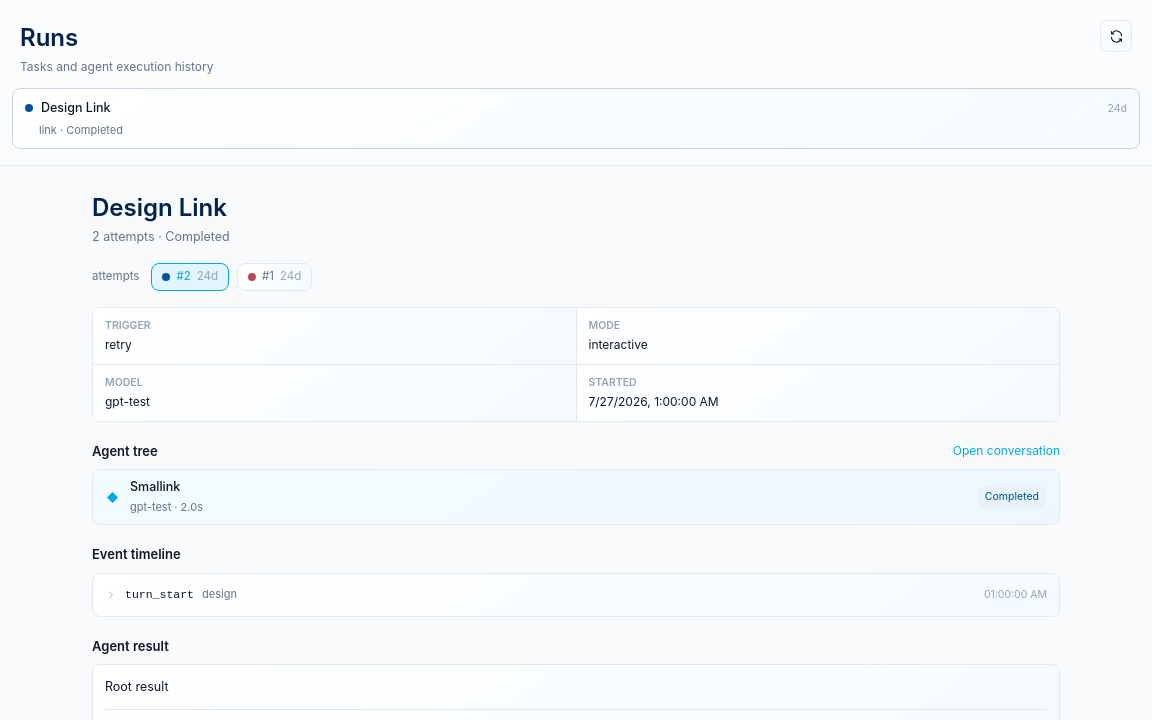
Test: RunsView › lets the user inspect an earlier attempt
The width and height of the screenshot is (1152, 720).
Click the button "#1 24d" at (275, 277), box top-left (237, 263), bottom-right (312, 291)
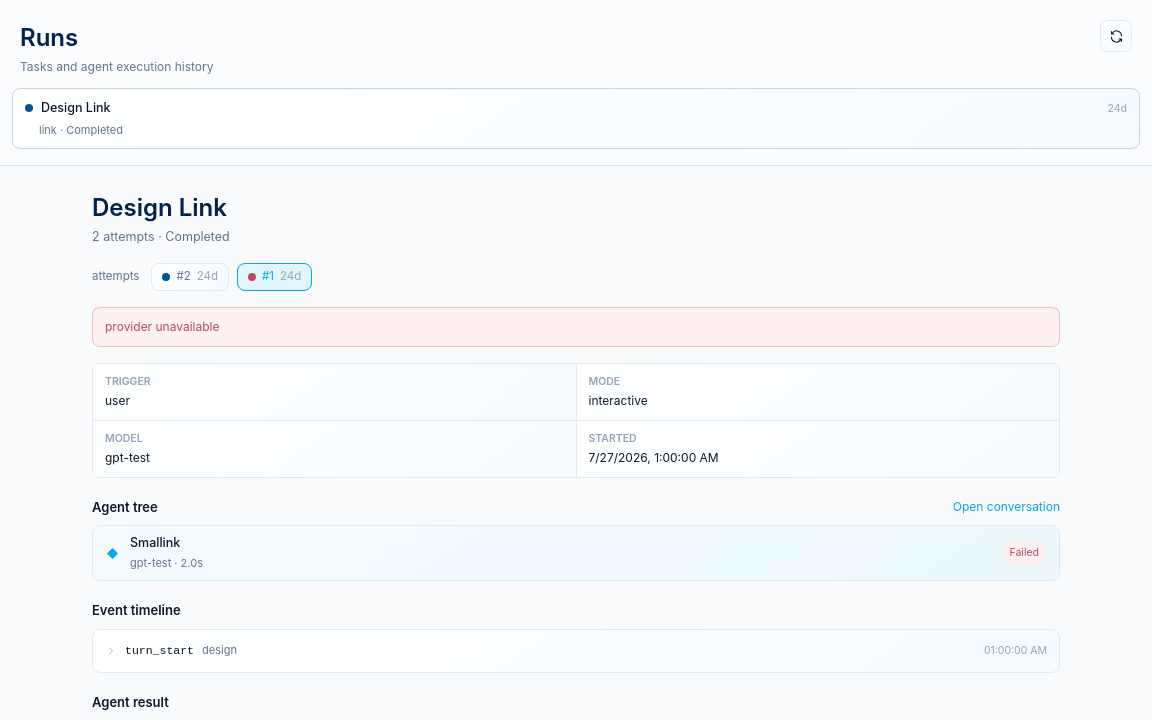
Expected: the text "provider unavailable" is shown, top-left (92, 307), bottom-right (1060, 347)
